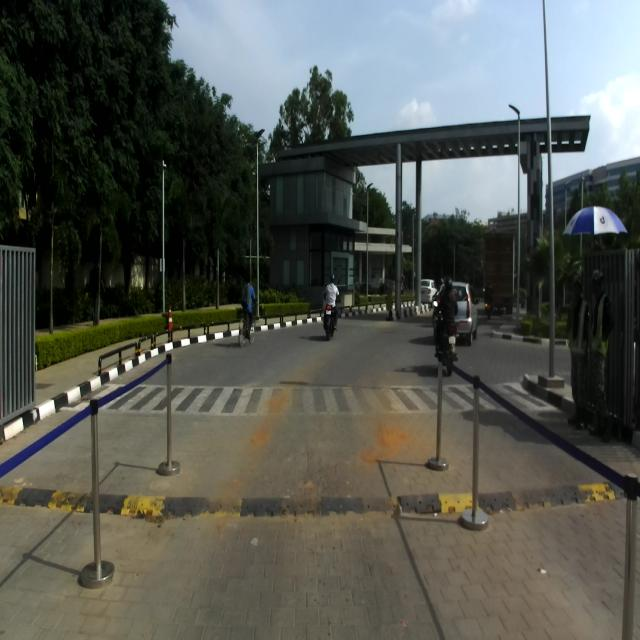zebra crossing ahead at: (169, 380, 435, 414)
